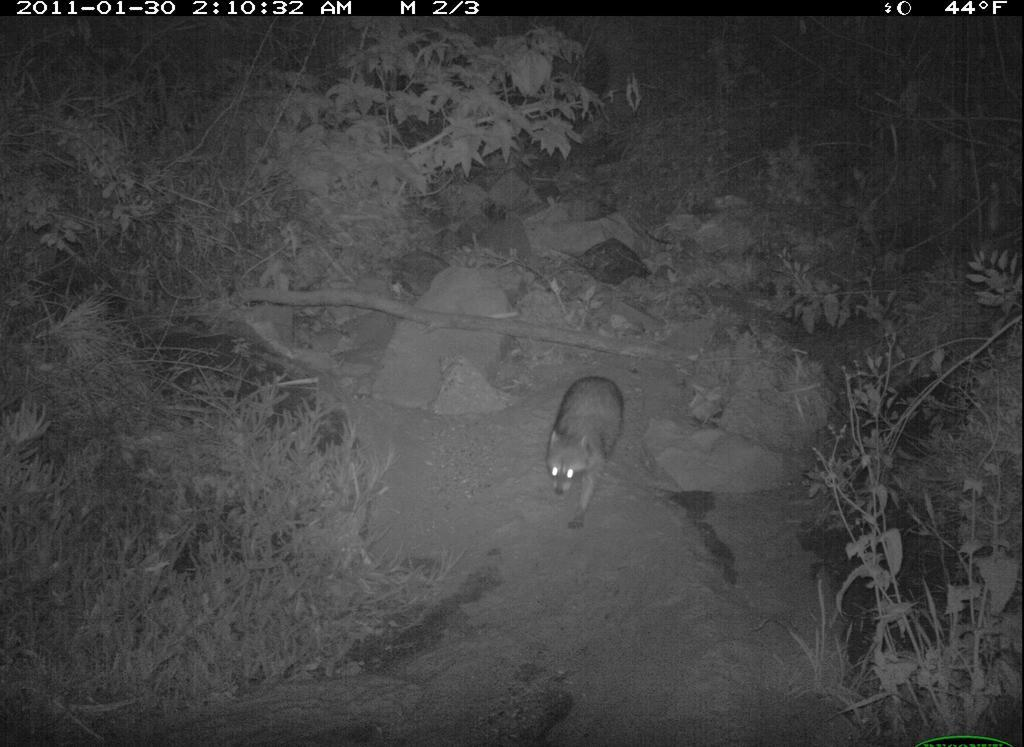raccoon: (536, 369, 639, 526)
